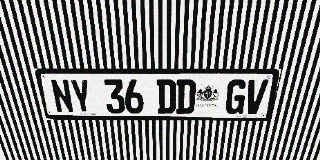3: (103, 79, 125, 114)
6: (123, 79, 144, 114)
D: (176, 79, 196, 114), (157, 79, 176, 114)
G: (224, 79, 248, 114)
N: (49, 79, 75, 113)
V: (243, 79, 269, 114)
Y: (69, 79, 93, 113)
